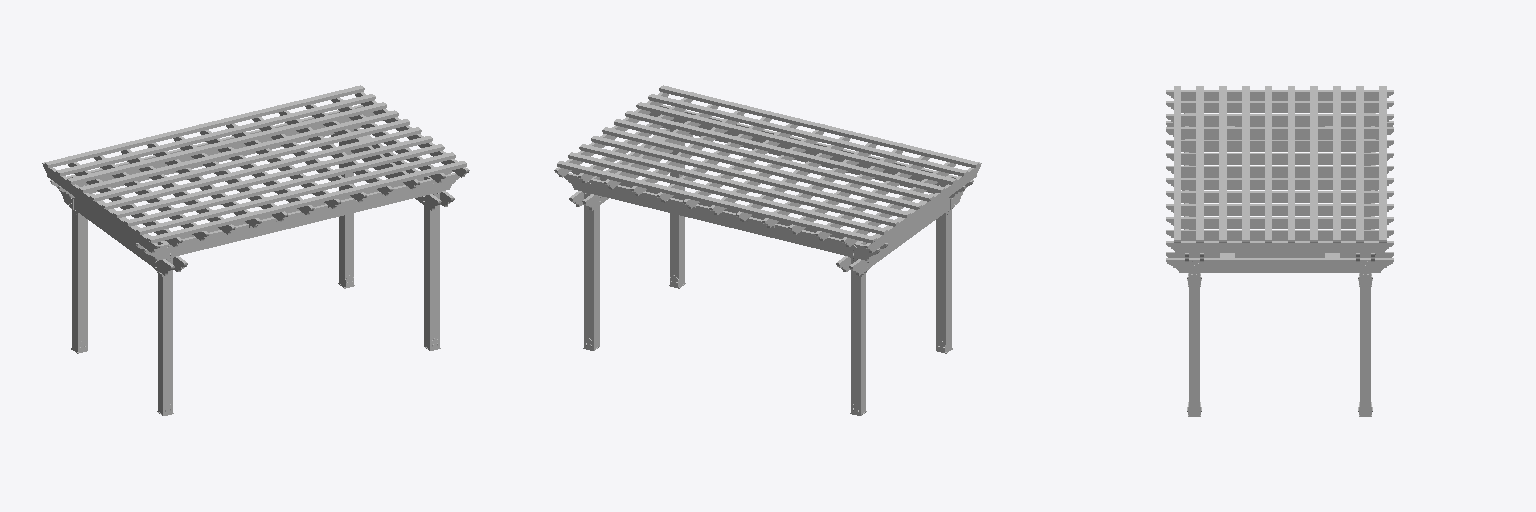
The model's file is santa-monica-10x16-classic.obj.
The picture shows the model from 3 angles: view 1: azimuth 30°, elevation 25°; view 2: azimuth 150°, elevation 25°; view 3: azimuth 270°, elevation 25°; orthographic projection.
Visible parts, largest first — view 1: Mesh173 Component_19_4 Group42 Group1 Model, Mesh192 Component_4_5 Group1 Model, Mesh176 Component_4_2 Group1 Model, Mesh184 Component_4_4 Group1 Model, Mesh195 Component_4_6 Group1 Model, Mesh201 Component_4_8 Group1 Model, Mesh202 Component_4_9 Group1 Model, Mesh203 Component_4_10 Group1 Model, Mesh175 Component_4_1 Group1 Model, Mesh198 Component_4_7 Group1 Model, Mesh180 Component_4_3 Group1 Model, Mesh174 Component_95_1 Group1 Model (+18 smaller); view 2: Mesh27 Component_19_1 Group7 Group1 Model, Mesh202 Component_4_9 Group1 Model, Mesh192 Component_4_5 Group1 Model, Mesh184 Component_4_4 Group1 Model, Mesh176 Component_4_2 Group1 Model, Mesh180 Component_4_3 Group1 Model, Mesh203 Component_4_10 Group1 Model, Mesh175 Component_4_1 Group1 Model, Mesh195 Component_4_6 Group1 Model, Mesh201 Component_4_8 Group1 Model, Mesh198 Component_4_7 Group1 Model, Mesh183 Component_95_3 Group1 Model (+18 smaller); view 3: Mesh130 Component_6_2 Group30 Group1 Model, Mesh60 Component_10_4 Group16 Group1 Model, Mesh55 Component_10_3 Group15 Group1 Model, Mesh65 Component_10_5 Group17 Group1 Model, Mesh70 Component_10_6 Group18 Group1 Model, Mesh93 Component_10_7 Group22 Group1 Model, Mesh124 Component_10_10 Group28 Group1 Model, Mesh50 Component_10_2 Group14 Group1 Model, Mesh171 Component_10_13 Group40 Group1 Model, Mesh166 Component_10_12 Group39 Group1 Model, Mesh119 Component_10_9 Group27 Group1 Model, Mesh129 Component_10_11 Group29 Group1 Model (+15 smaller).
Boxes of the visible parts, x1,y1,x2,y2 form: Mesh173 Component_19_4 Group42 Group1 Model: [144, 173, 459, 260]; Mesh192 Component_4_5 Group1 Model: [90, 119, 409, 201]; Mesh176 Component_4_2 Group1 Model: [124, 144, 444, 226]; Mesh184 Component_4_4 Group1 Model: [147, 161, 466, 243]; Mesh195 Component_4_6 Group1 Model: [79, 110, 398, 192]; Mesh201 Component_4_8 Group1 Model: [136, 152, 455, 234]; Mesh202 Component_4_9 Group1 Model: [102, 127, 421, 209]; Mesh203 Component_4_10 Group1 Model: [45, 85, 364, 167]; Mesh175 Component_4_1 Group1 Model: [67, 102, 386, 184]; Mesh198 Component_4_7 Group1 Model: [56, 94, 375, 176]; Mesh180 Component_4_3 Group1 Model: [113, 136, 432, 217]; Mesh174 Component_95_1 Group1 Model: [424, 176, 439, 349]; Mesh27 Component_19_1 Group7 Group1 Model: [564, 173, 879, 260]; Mesh202 Component_4_9 Group1 Model: [614, 119, 933, 201]; Mesh192 Component_4_5 Group1 Model: [602, 127, 921, 209]; Mesh184 Component_4_4 Group1 Model: [659, 85, 978, 167]; Mesh176 Component_4_2 Group1 Model: [636, 102, 956, 184]; Mesh180 Component_4_3 Group1 Model: [625, 111, 944, 192]; Mesh203 Component_4_10 Group1 Model: [557, 161, 876, 243]; Mesh175 Component_4_1 Group1 Model: [579, 144, 898, 226]; Mesh195 Component_4_6 Group1 Model: [591, 136, 910, 217]; Mesh201 Component_4_8 Group1 Model: [648, 94, 967, 176]; Mesh198 Component_4_7 Group1 Model: [568, 152, 887, 234]; Mesh183 Component_95_3 Group1 Model: [584, 176, 599, 349]; Mesh130 Component_6_2 Group30 Group1 Model: [1166, 258, 1393, 272]; Mesh60 Component_10_4 Group16 Group1 Model: [1166, 241, 1393, 252]; Mesh55 Component_10_3 Group15 Group1 Model: [1166, 191, 1393, 202]; Mesh65 Component_10_5 Group17 Group1 Model: [1166, 114, 1393, 125]; Mesh70 Component_10_6 Group18 Group1 Model: [1166, 101, 1393, 112]; Mesh93 Component_10_7 Group22 Group1 Model: [1166, 204, 1393, 215]; Mesh124 Component_10_10 Group28 Group1 Model: [1166, 178, 1393, 189]; Mesh50 Component_10_2 Group14 Group1 Model: [1166, 217, 1393, 228]; Mesh171 Component_10_13 Group40 Group1 Model: [1166, 127, 1393, 138]; Mesh166 Component_10_12 Group39 Group1 Model: [1166, 140, 1393, 151]; Mesh119 Component_10_9 Group27 Group1 Model: [1166, 153, 1393, 164]; Mesh129 Component_10_11 Group29 Group1 Model: [1166, 166, 1393, 177].
Bounding box in the file's own units: 192 × 108 × 120.